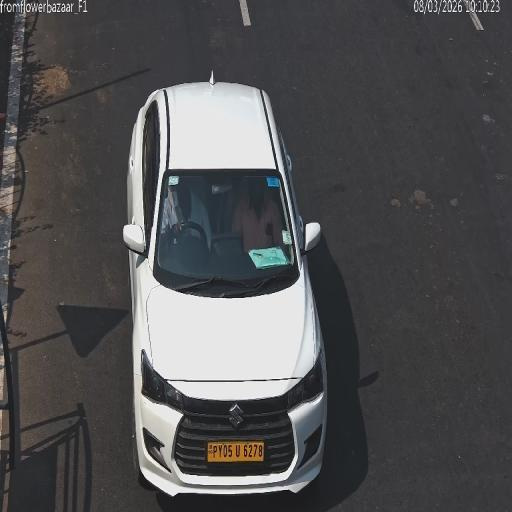person_with_seatbelt: (164, 192, 188, 239)
person_without_seatbelt: (242, 204, 276, 245)
